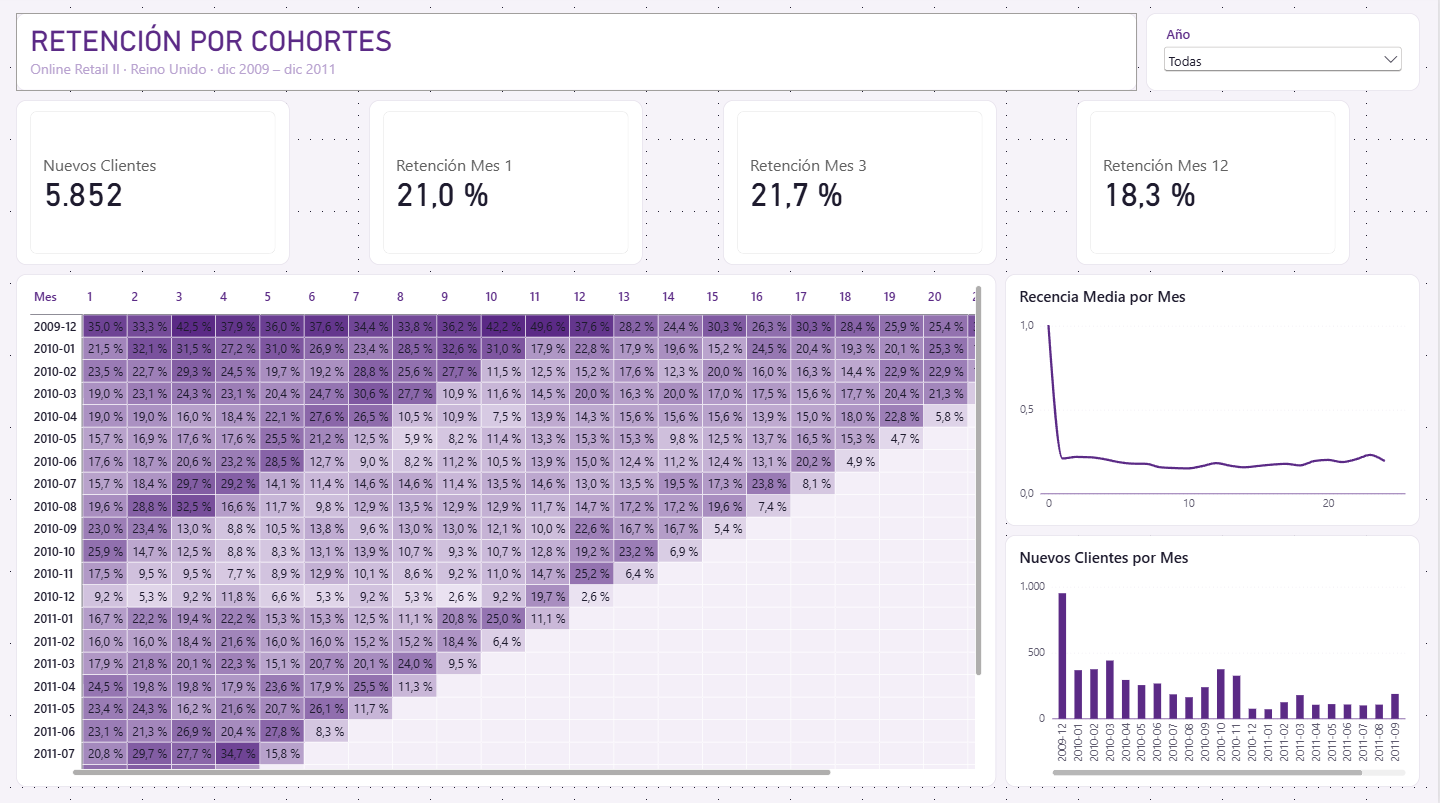

Layout of this report page (visuals, bound fields, positions):
{"tool":"powerbi","page":{"name":"Retencion por Cohortes","canvas":[1920,1080],"ordinal":2},"visuals":[{"type":"slicer","fields":{"Values":["dimCalendario.Año"]},"box":[1531,24,365,104],"z":0},{"type":"cardVisual","fields":{"Data":["Medidas.Nuevos Clientes"]},"box":[24,140,365,220],"z":1000},{"type":"cardVisual","fields":{"Data":["Medidas.Retención Mes 1"]},"box":[495,140,365,220],"z":2000},{"type":"cardVisual","fields":{"Data":["Medidas.Retención Mes 3"]},"box":[966,140,365,220],"z":3000},{"type":"cardVisual","fields":{"Data":["Medidas.Retención Mes 12"]},"box":[1437,140,365,220],"z":4000},{"type":"pivotTable","fields":{"Columns":["Desfase.Mes"],"Rows":["dimCliente.MesCohorte"],"Values":["Medidas.Retención %"]},"box":[24,372,1307,684],"z":5000},{"type":"lineChart","fields":{"Category":["Desfase.Mes"],"Y":["Medidas.Recencia Media"]},"box":[1343,372,553,336],"z":6000},{"type":"columnChart","title":"Nuevos Clientes por Mes","fields":{"Category":["dimCliente.Cohorte"],"Y":["Medidas.Nuevos Clientes"]},"box":[1343,720,553,336],"z":7000},{"type":"textbox","title":"RETENCIÓN POR COHORTES","box":[24,24,1495,104],"z":8000}]}

Visuals, with their boxes in screenshot pixels (x1, y1, x2, y2), scaled from the page's 1920x1080 canvas onto the 1440x803 screenshot:
slicer - dimCalendario.Año: 1148/18/1422/95
cardVisual - Medidas.Nuevos Clientes: 18/104/292/268
cardVisual - Medidas.Retención Mes 1: 371/104/645/268
cardVisual - Medidas.Retención Mes 3: 724/104/998/268
cardVisual - Medidas.Retención Mes 12: 1078/104/1352/268
pivotTable - Desfase.Mes x dimCliente.MesCohorte: 18/277/998/785
lineChart - Desfase.Mes x Medidas.Recencia Media: 1007/277/1422/526
"Nuevos Clientes por Mes" columnChart: 1007/535/1422/785
"RETENCIÓN POR COHORTES" textbox: 18/18/1139/95
